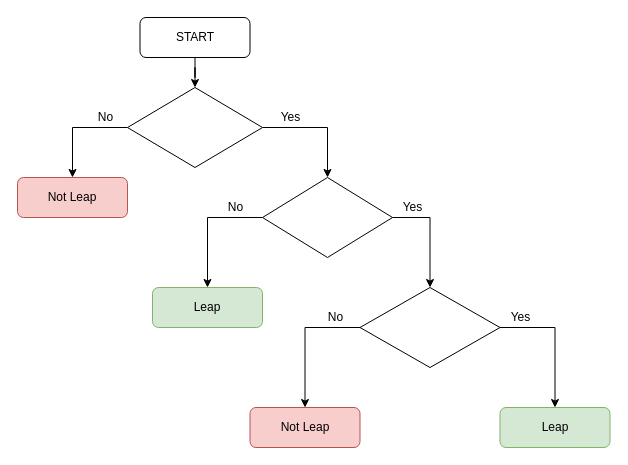
This 628x465 diagram has some shape labels left out. Here are the shapes that lost their labels. From the top down, the centre of each, then its label:
At point (194, 127): "Is it cleanly divisible by 4?".
At point (327, 217): "Is it cleanly divisible by 100?".
At point (429, 327): "Is it cleanly divisible by 400?".
